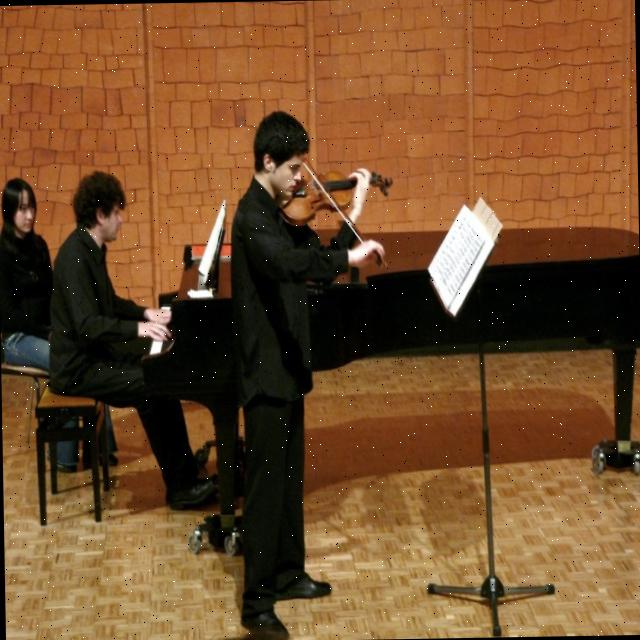violin: (270, 164, 396, 230)
